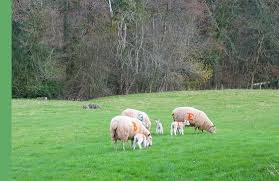sheep: (109, 118, 152, 150), (172, 104, 216, 135), (123, 108, 154, 134), (133, 134, 156, 152), (168, 120, 190, 137), (153, 119, 165, 134)
